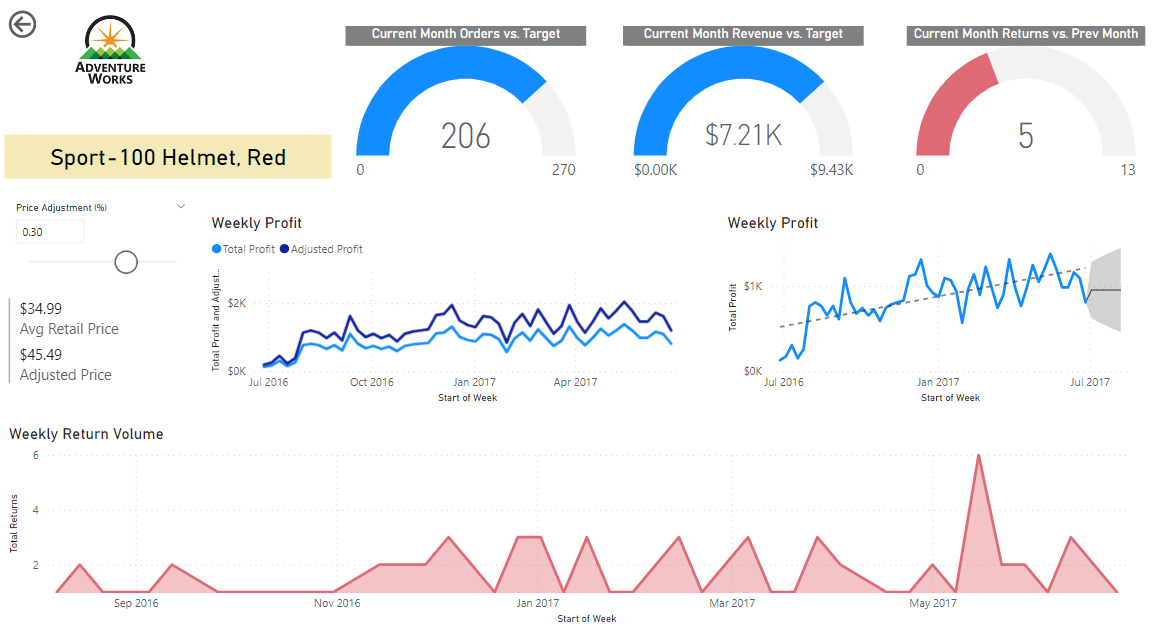

What the dashboard file says about the page in this screenshot:
{"tool":"powerbi","page":{"name":"Product Detail","canvas":[1280,720],"ordinal":1},"visuals":[{"type":"lineChart","title":"Weekly Profit","fields":{"Category":["AW_Calendar_Lookup.Start of Week"],"Y":["AW_Sales.Total Profit"]},"box":[800.7,244.5,463.3,212.7],"z":0},{"type":"areaChart","title":"Weekly Return Volume","fields":{"Category":["AW_Calendar_Lookup.Start of Week"],"Y":["AW_Returns.Total Returns"]},"box":[12.2,475.5,1251.7,223.7],"z":1000},{"type":"gauge","title":"Current Month Orders vs. Target","fields":{"Y":["AW_Sales.Total Orders"],"MaxValue":["AW_Sales.Order Target"]},"box":[386.3,37.9,264,178.5],"z":2000},{"type":"gauge","title":"Current Month Revenue vs. Target","fields":{"Y":["AW_Sales.Total Revenue"],"MaxValue":["AW_Sales.Revenue Target"]},"box":[690.7,37.9,264,178.5],"z":3000},{"type":"gauge","title":"Current Month Returns vs. Prev Month","fields":{"Y":["AW_Returns.Total Returns"],"MaxValue":["AW_Returns.Prev Month Returns"]},"box":[1002.4,37.9,261.6,178.5],"z":4000},{"type":"card","fields":{"Values":["Min(AW_Product_Lookup.ProductName)"]},"box":[12.2,157.7,359.4,47.7],"z":5000},{"type":"actionButton","box":[12.2,15.9,100.2,40.3],"z":6000},{"type":"slicer","fields":{"Values":["Price Adjustment (%).Price Adjustment (%)"]},"box":[12.2,226.1,211.5,105.1],"z":7000},{"type":"multiRowCard","fields":{"Values":["AW_Product_Lookup.Avg Retail Price","AW_Product_Lookup.Adjusted Price"]},"box":[12.2,331.3,202.9,116.1],"z":8000},{"type":"lineChart","title":"Weekly Profit","fields":{"Category":["AW_Calendar_Lookup.Start of Week"],"Y":["AW_Sales.Total Profit","AW_Sales.Adjusted Profit"]},"box":[234.7,244.5,539.1,212.7],"z":9000},{"type":"image","box":[66,15.9,125.9,95.3],"z":10000}]}

Visuals, with their boxes in screenshot pixels (x1, y1, x2, y2), scaled from the page's 1280x720 canvas onto the 1157x641 screenshot:
"Weekly Profit" lineChart: region(724, 218, 1143, 407)
"Weekly Return Volume" areaChart: region(11, 423, 1142, 622)
"Current Month Orders vs. Target" gauge: region(349, 34, 588, 193)
"Current Month Revenue vs. Target" gauge: region(624, 34, 863, 193)
"Current Month Returns vs. Prev Month" gauge: region(906, 34, 1143, 193)
card - Min(AW_Product_Lookup.ProductName): region(11, 140, 336, 183)
actionButton: region(11, 14, 102, 50)
slicer - Price Adjustment (%).Price Adjustment (%): region(11, 201, 202, 295)
multiRowCard - AW_Product_Lookup.Avg Retail Price x AW_Product_Lookup.Adjusted Price: region(11, 295, 194, 398)
"Weekly Profit" lineChart: region(212, 218, 699, 407)
image: region(60, 14, 173, 99)
